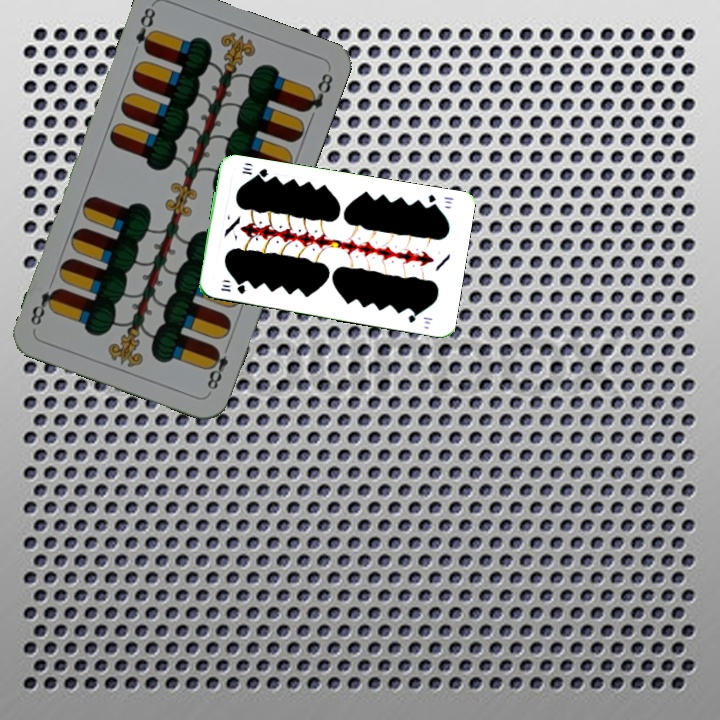E8: (203, 339, 233, 393), (131, 3, 159, 56)
G10: (424, 190, 456, 210), (217, 280, 248, 296)
